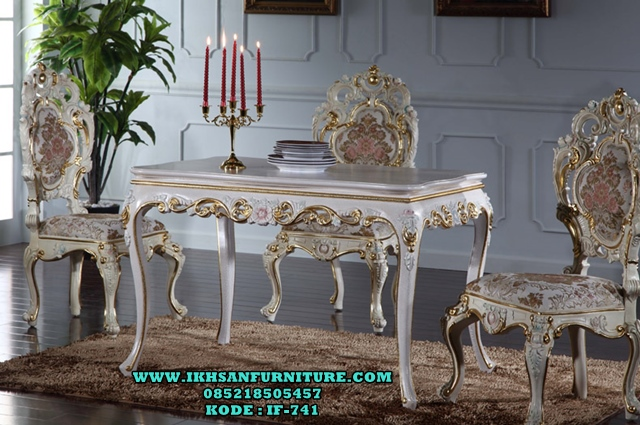Carving Table: (125, 147, 475, 402)
